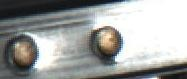joints: (1, 30, 39, 72), (84, 21, 124, 60)
